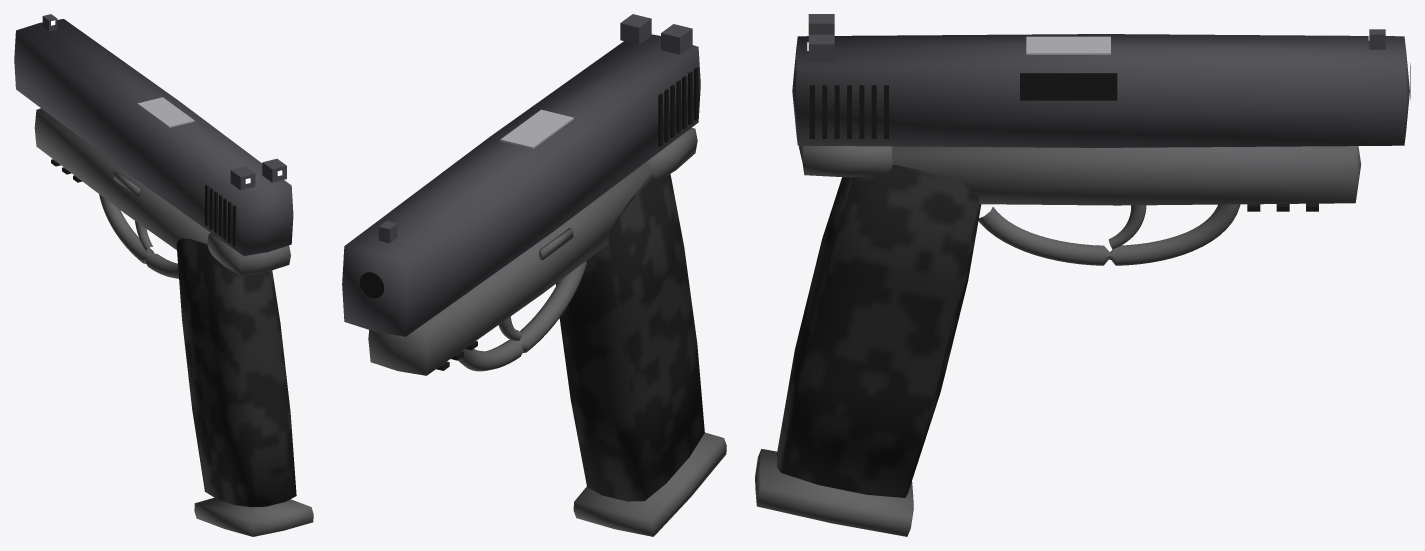
File: gun.glb
3 views of the same model, side by side, from view 1: azimuth 30°, elevation 25°; view 2: azimuth 150°, elevation 25°; view 3: azimuth 270°, elevation 25° (orthographic). The views are drawn at different scales.
Parts seen in each view (by area): view 1: Gun, Slide, Magazine; view 2: Gun, Slide, Magazine; view 3: Gun, Slide, Magazine.
Part boxes in pixels (x1,y1,x2,y2): Gun: (34,108,296,507); Slide: (14,14,293,255); Magazine: (194,497,313,536); Gun: (368,128,704,501); Slide: (342,14,700,336); Magazine: (573,432,726,536); Gun: (777,145,1361,497); Slide: (792,14,1410,147); Magazine: (755,449,913,536).
Bounding box in the file's own units: 0.031 × 0.1662 × 0.2018.
Materials: 6 (1 with a texture image).
